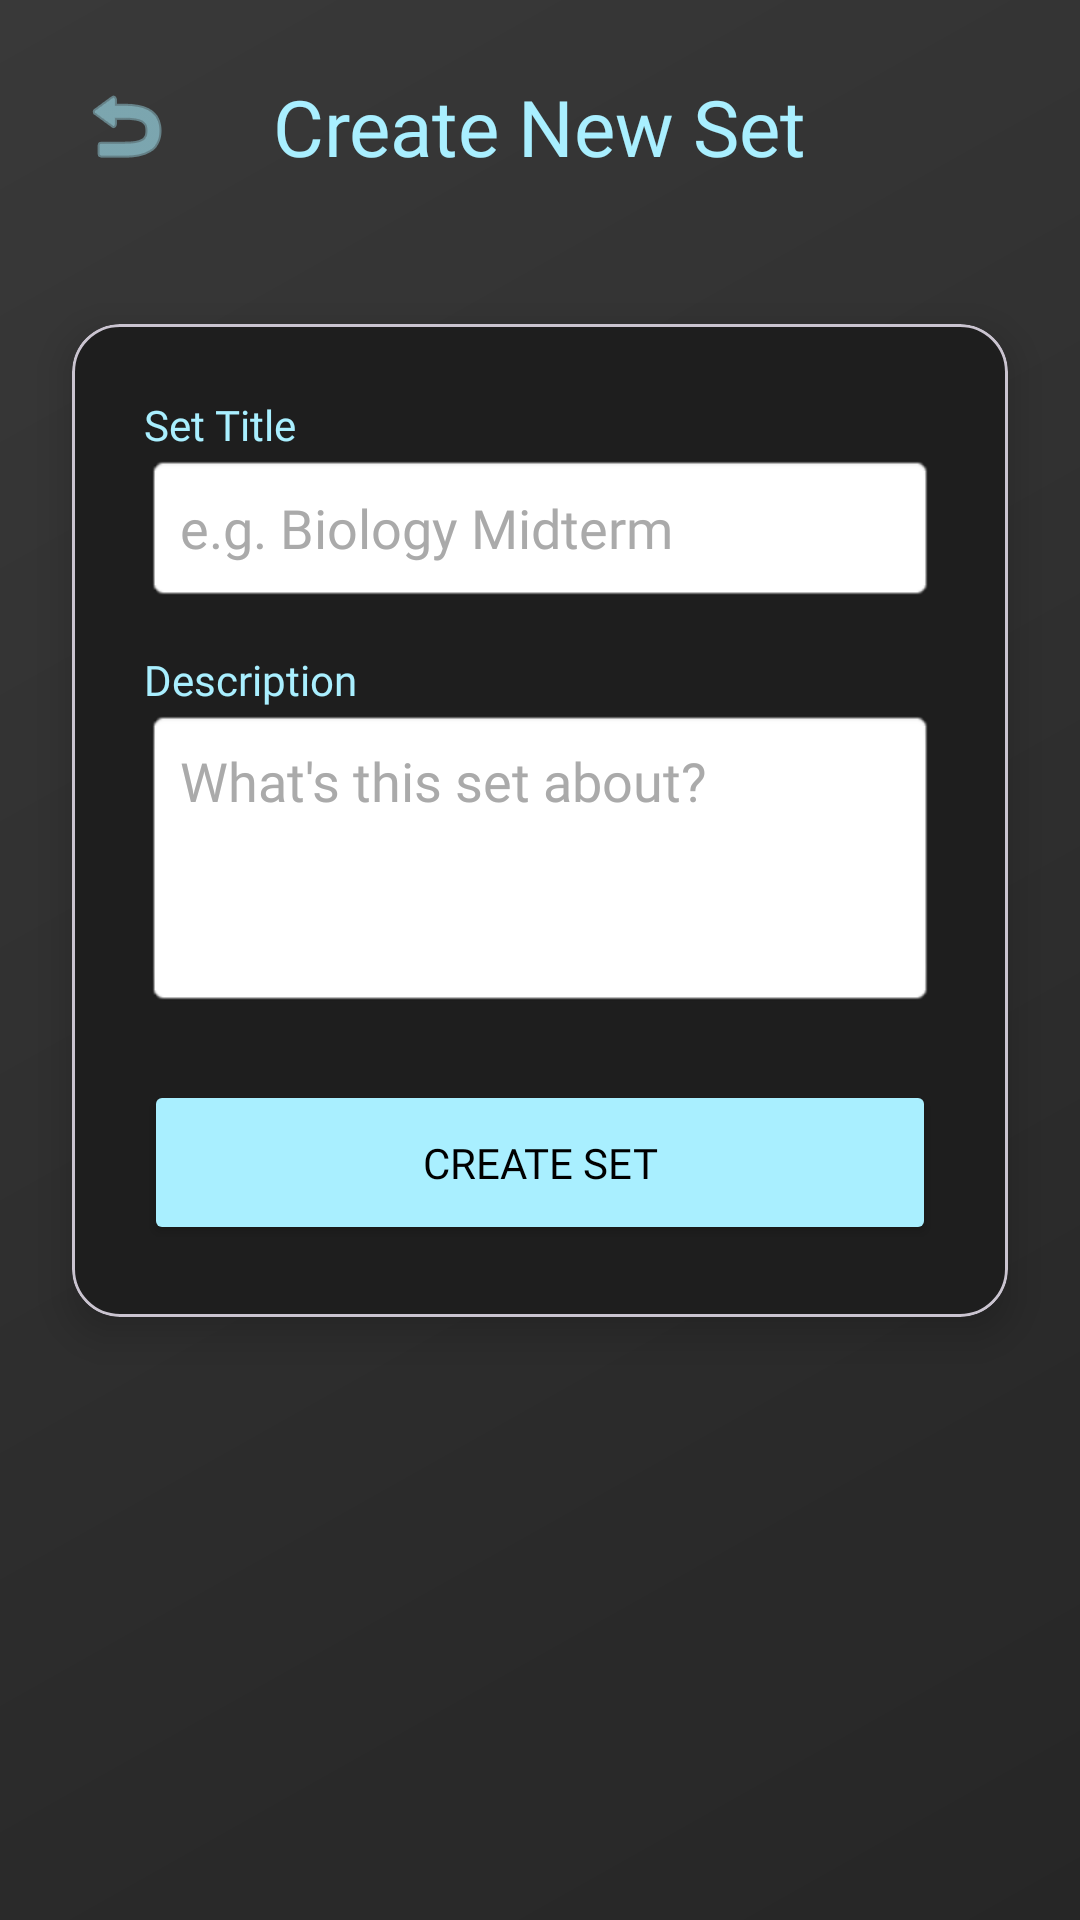

Where to tap for icons on this 1080 × 1920 app screen, as point (x, y):
Back: point (127, 126)
